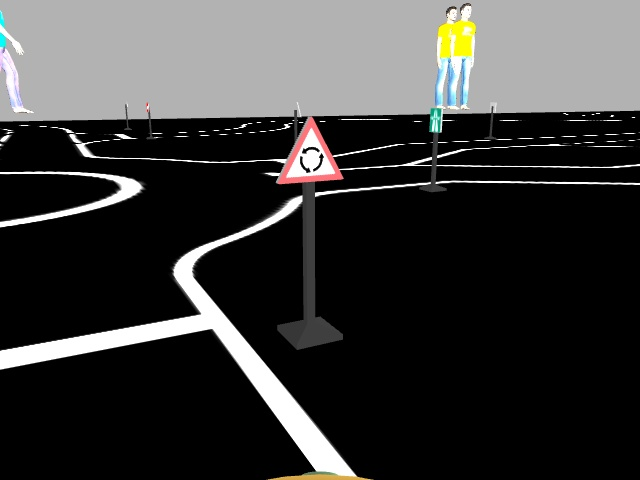HighwayEntrance: (427, 105, 444, 133)
Roundabout: (272, 117, 345, 185)
